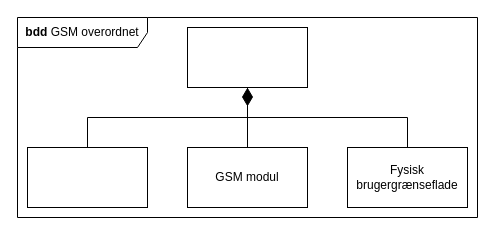
This 495x235 diagram has some shape labels left out. The box of each missing label's shape, as (x1, y1, x2, y2) in pixels:
GSM Lock: (186, 26, 308, 88)
Låsemekanisme: (26, 146, 148, 208)
